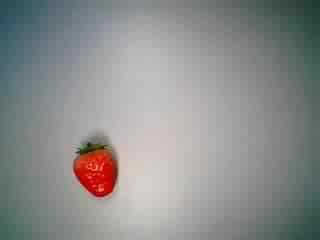strawberry: (65, 138, 131, 200)
